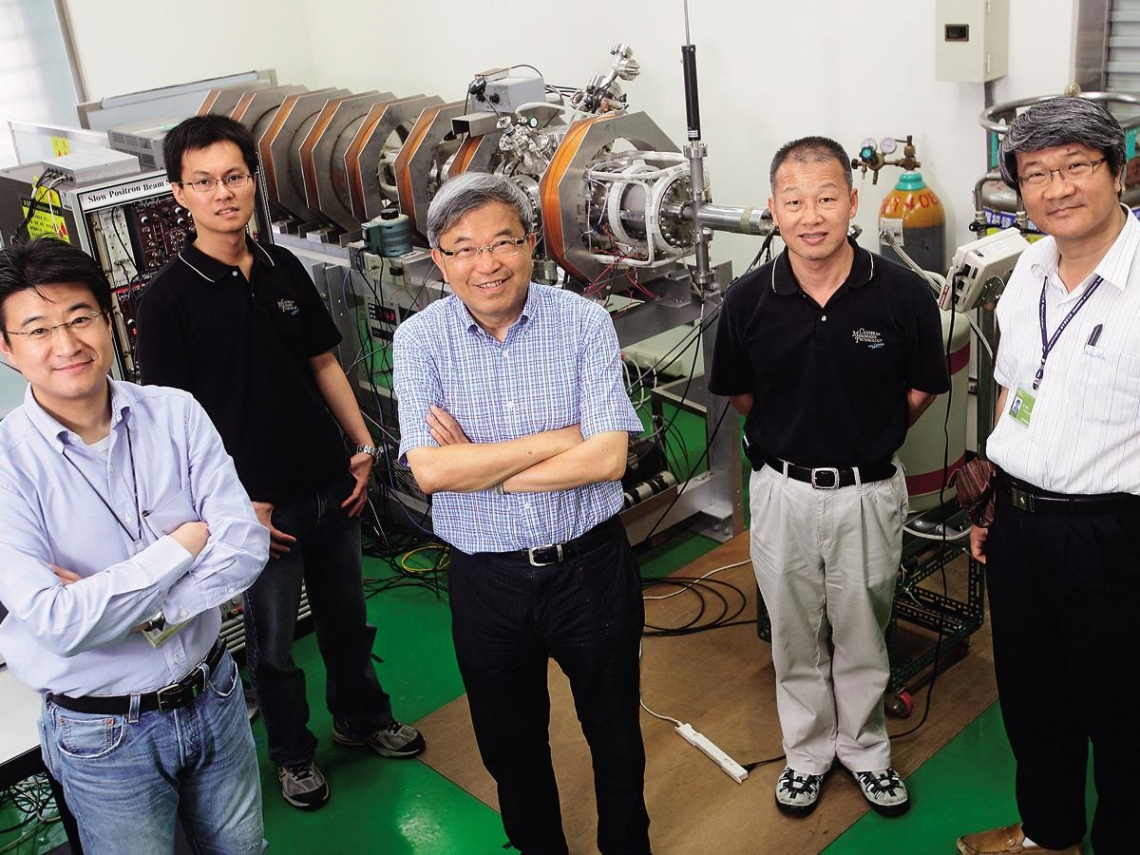people: (394, 178, 651, 855), (2, 241, 270, 855), (719, 139, 949, 817), (144, 115, 367, 799), (957, 102, 1140, 855)
